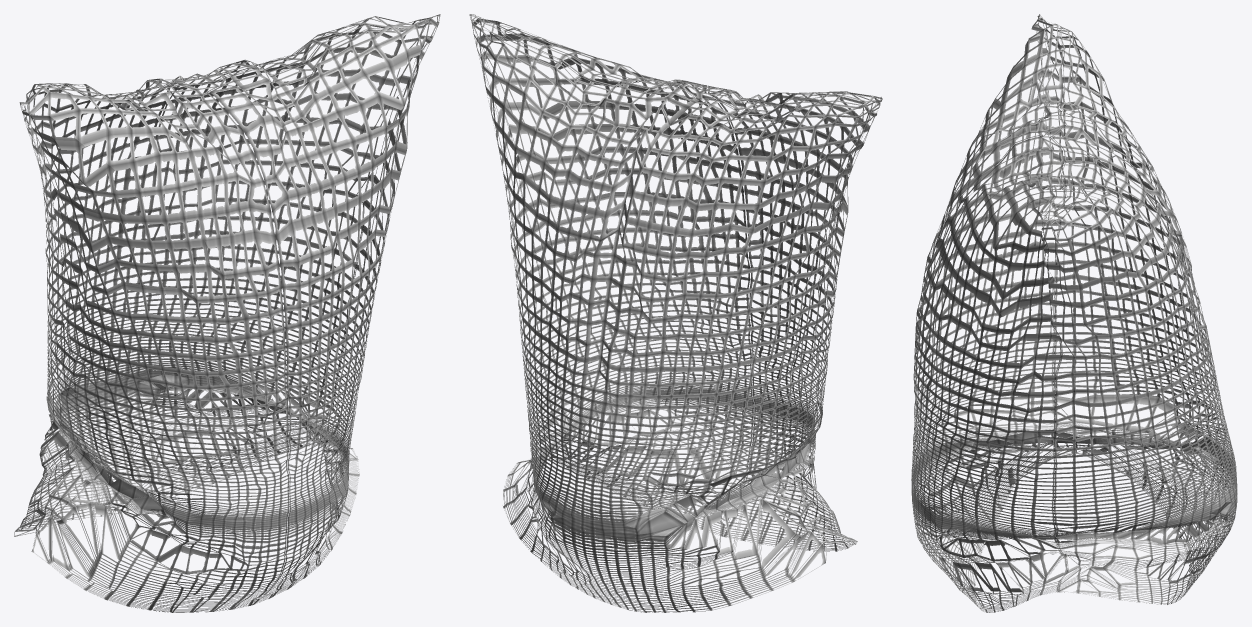
Rendered from mhw_jujube_bag_on_head.glb.
3 views of the same model, side by side, from view 1: azimuth 30°, elevation 25°; view 2: azimuth 150°, elevation 25°; view 3: azimuth 270°, elevation 25° (orthographic). The views are drawn at different scales.
Visible parts, largest first — view 1: mhw_jujube_bag_on_head; view 2: mhw_jujube_bag_on_head; view 3: mhw_jujube_bag_on_head.
Part boxes in pixels (<box>): mhw_jujube_bag_on_head: <box>14,14,440,612</box>; mhw_jujube_bag_on_head: <box>469,14,882,612</box>; mhw_jujube_bag_on_head: <box>911,14,1237,612</box>.
Bounding box in the file's own units: 0.4766 × 0.57 × 0.3407.
1 material, 1 textured.
